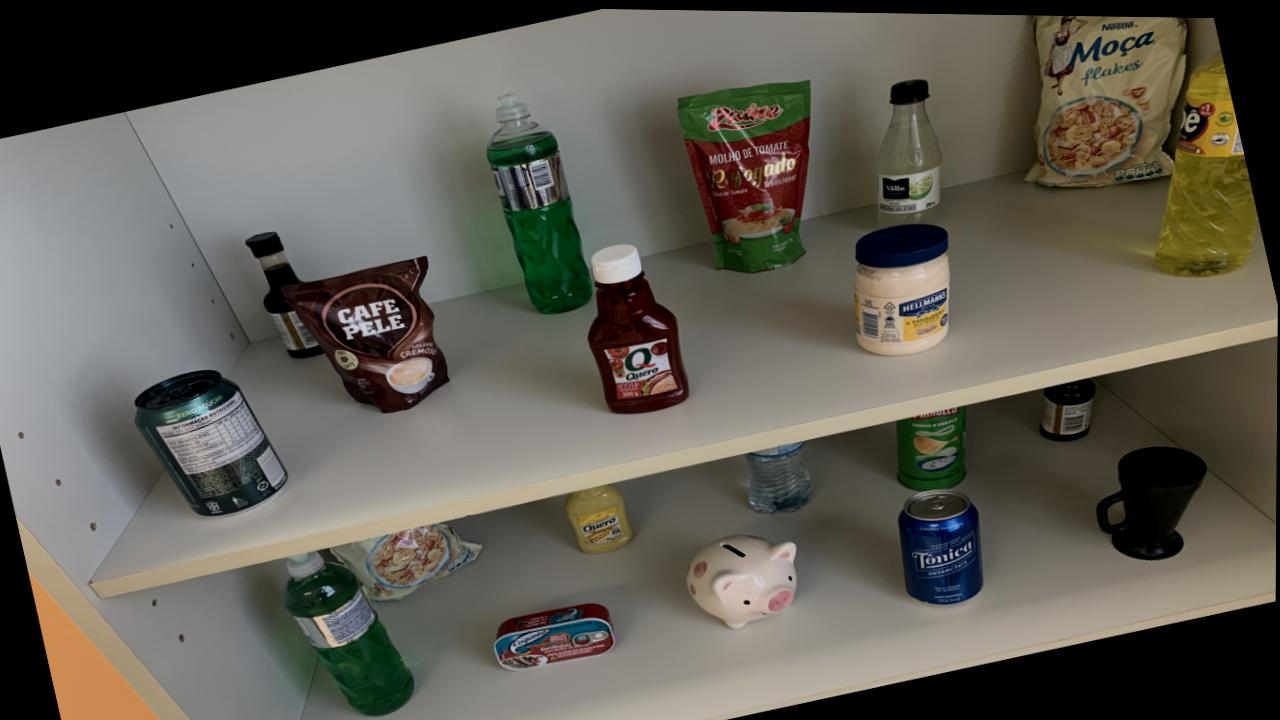Coffee-Pantry_Items: (282, 255, 451, 411)
Detergent-Cleanup_Items: (486, 91, 593, 312), (1155, 48, 1258, 272), (284, 550, 415, 715)
English_Sauce-Pantry_Items: (246, 230, 322, 357), (1040, 374, 1096, 437)
Flakes-Snacks: (1025, 12, 1187, 184), (331, 521, 483, 600)
Guarana_Can-Drinks: (135, 368, 288, 516)
Ketchup-Pantry_Items: (587, 241, 689, 411), (908, 270, 911, 273)
Mayonnaise-Pantry_Items: (854, 220, 951, 352)
Mustard-Pantry_Items: (564, 481, 634, 552)
Pig_Safe-Miscellaneous: (687, 532, 798, 626)
Pringles-Snacks: (896, 403, 967, 488), (896, 403, 967, 487)
Soda-Drinks: (876, 76, 941, 224)
Tomato_Sauce-Pantry_Items: (677, 77, 811, 270)
Tonic-Drinks: (898, 485, 984, 601)
Tuna_Can-Pantry_Items: (495, 600, 615, 668)
Water_Bottle-Drinks: (747, 439, 812, 511)
